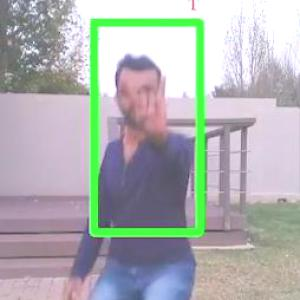takeoff-hand: (125, 71, 181, 149)
